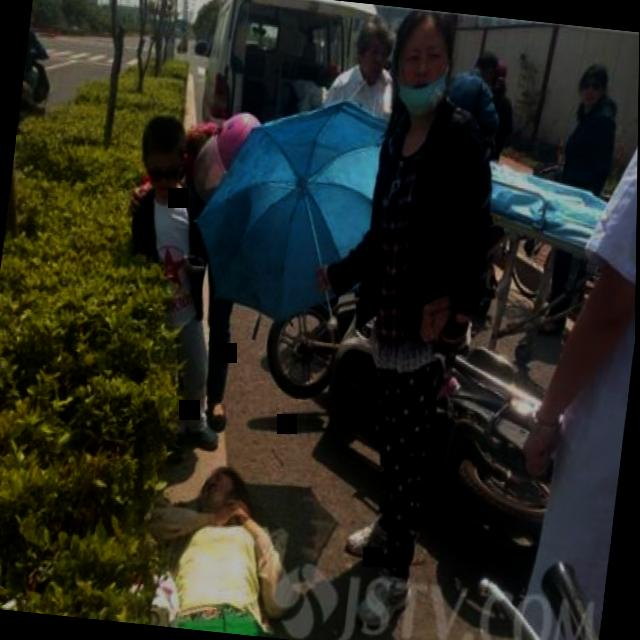Fall-Detected: (125, 438, 375, 640)
